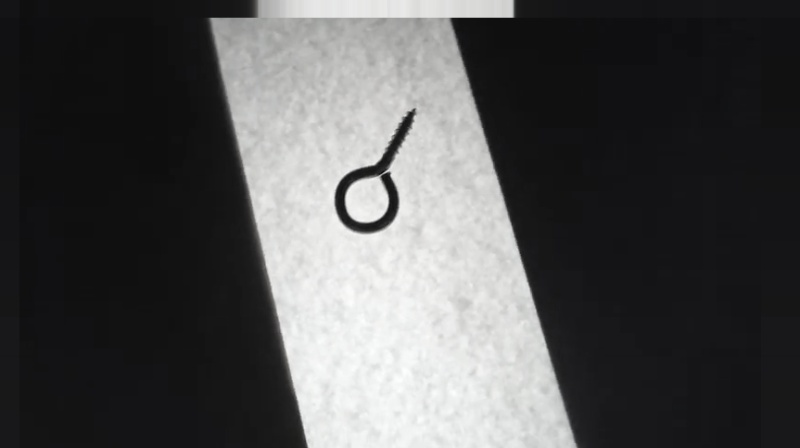O001: (330, 102, 421, 241)
